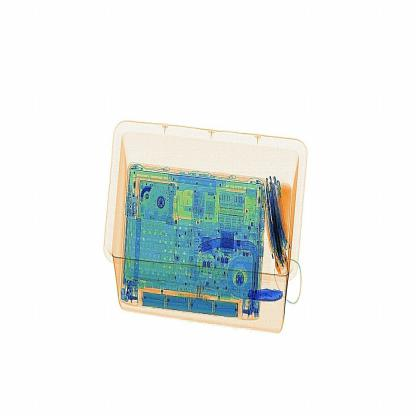knife: (246, 287, 289, 306)
